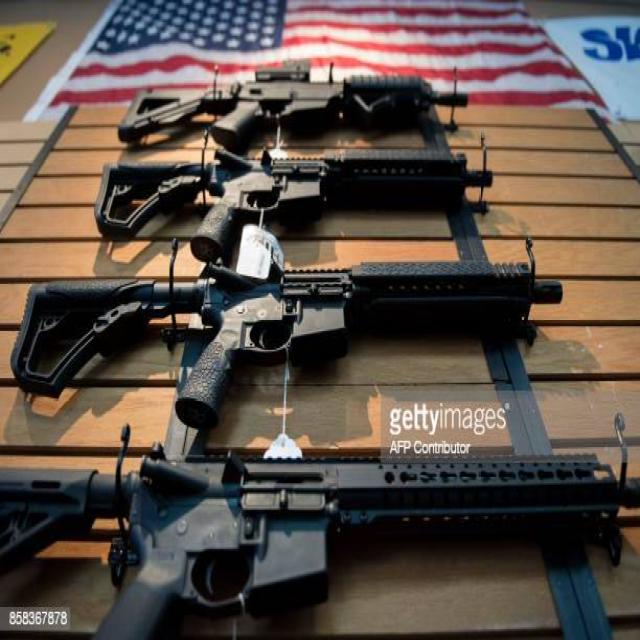Rifle: (0, 458, 620, 640), (10, 264, 564, 430), (95, 149, 466, 264), (118, 69, 470, 147)
